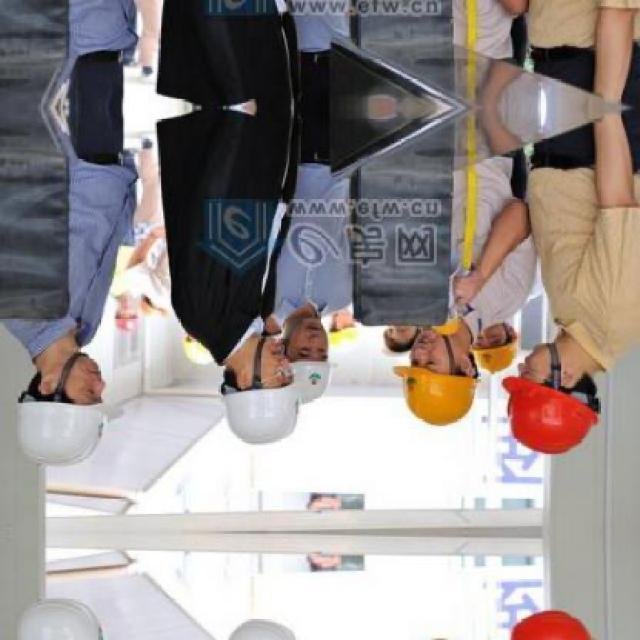con casco: (193, 337, 292, 445), (16, 348, 109, 462), (399, 324, 472, 457), (500, 343, 583, 451), (278, 291, 341, 412)
